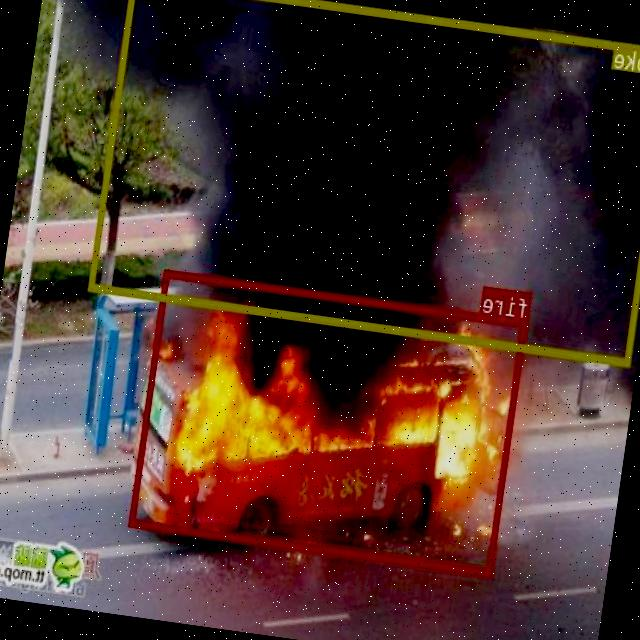fire: (130, 268, 530, 576)
smoke: (89, 0, 640, 365)
